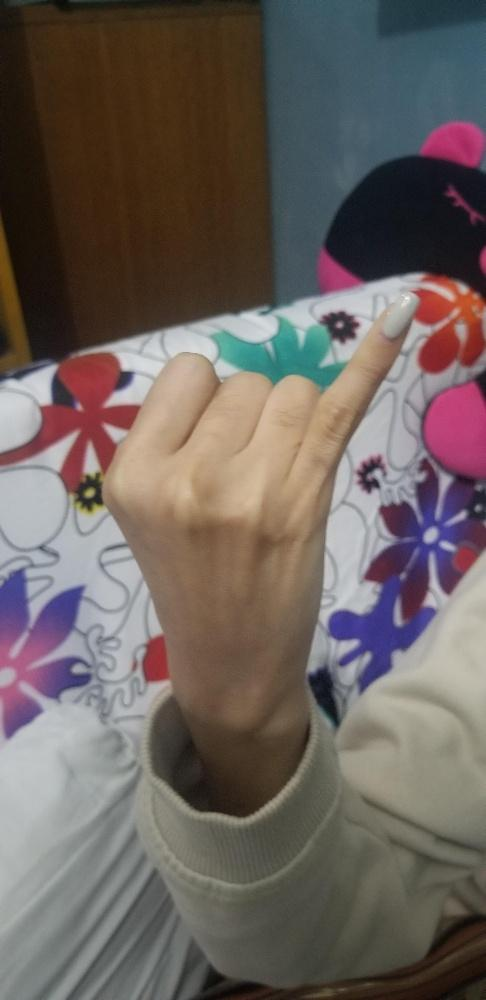j: (96, 291, 419, 633)
